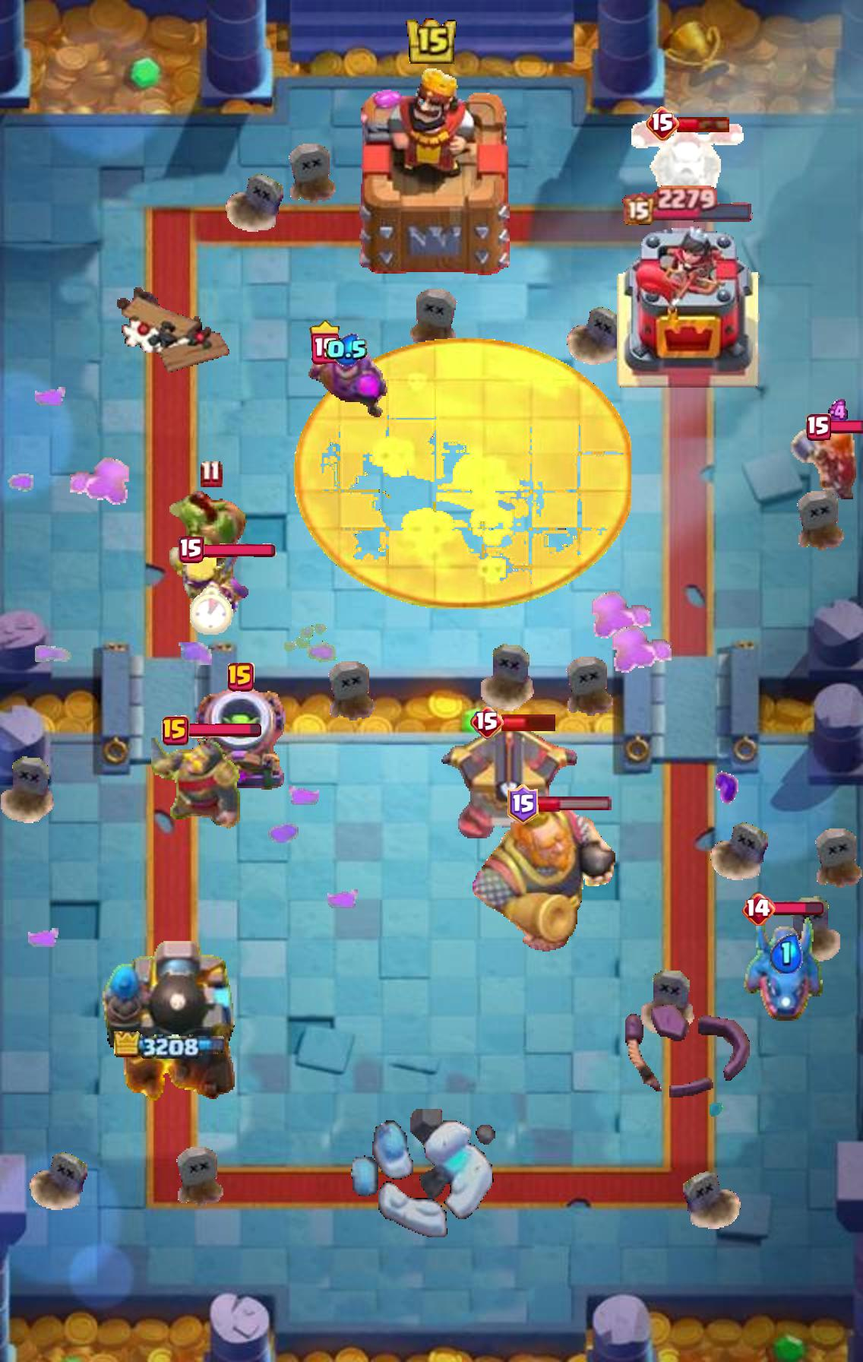bar: (535, 796, 612, 812), (201, 543, 277, 558), (501, 712, 558, 732), (186, 723, 261, 738), (677, 115, 732, 133), (772, 902, 823, 916), (827, 420, 863, 434)
bar-level: (309, 320, 340, 364), (507, 784, 539, 824), (645, 106, 680, 141), (470, 705, 505, 740), (742, 892, 776, 926), (162, 715, 190, 746), (178, 536, 205, 565), (227, 663, 254, 692), (806, 413, 831, 441), (200, 459, 223, 488)
